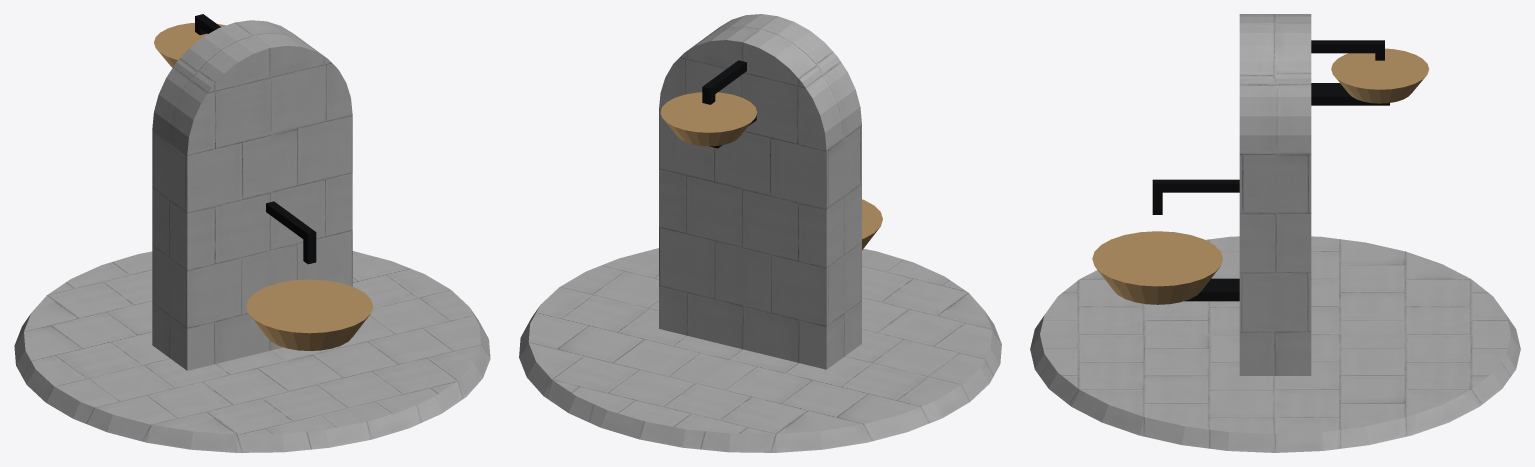
File: 05 Dog Water Station.obj
3 views of the same model, side by side, from view 1: azimuth 30°, elevation 25°; view 2: azimuth 150°, elevation 25°; view 3: azimuth 270°, elevation 25° (orthographic). The views are drawn at different scales.
Parts seen in each view (by area): view 1: SiteA_DogWaterStation_drain_pad, SiteA_DogWaterStation_arch_pillar, SiteA_DogWaterStation_dog_bowl, SiteA_DogWaterStation_brackets_and_spouts, SiteA_DogWaterStation_human_basin; view 2: SiteA_DogWaterStation_drain_pad, SiteA_DogWaterStation_arch_pillar, SiteA_DogWaterStation_human_basin, SiteA_DogWaterStation_brackets_and_spouts, SiteA_DogWaterStation_dog_bowl; view 3: SiteA_DogWaterStation_drain_pad, SiteA_DogWaterStation_arch_pillar, SiteA_DogWaterStation_dog_bowl, SiteA_DogWaterStation_brackets_and_spouts, SiteA_DogWaterStation_human_basin.
Boxes of the visible parts, x1=… form: SiteA_DogWaterStation_drain_pad: x1=14, y1=251, x2=490, y2=452; SiteA_DogWaterStation_arch_pillar: x1=152, y1=20, x2=352, y2=370; SiteA_DogWaterStation_dog_bowl: x1=246, y1=279, x2=373, y2=350; SiteA_DogWaterStation_brackets_and_spouts: x1=195, y1=14, x2=316, y2=264; SiteA_DogWaterStation_human_basin: x1=154, y1=23, x2=225, y2=67; SiteA_DogWaterStation_drain_pad: x1=519, y1=248, x2=1001, y2=452; SiteA_DogWaterStation_arch_pillar: x1=659, y1=14, x2=861, y2=369; SiteA_DogWaterStation_human_basin: x1=660, y1=92, x2=757, y2=146; SiteA_DogWaterStation_brackets_and_spouts: x1=702, y1=60, x2=756, y2=148; SiteA_DogWaterStation_dog_bowl: x1=862, y1=199, x2=882, y2=250; SiteA_DogWaterStation_drain_pad: x1=1030, y1=236, x2=1520, y2=452; SiteA_DogWaterStation_arch_pillar: x1=1239, y1=14, x2=1311, y2=375; SiteA_DogWaterStation_dog_bowl: x1=1092, y1=231, x2=1222, y2=304; SiteA_DogWaterStation_brackets_and_spouts: x1=1152, y1=40, x2=1389, y2=301; SiteA_DogWaterStation_human_basin: x1=1331, y1=48, x2=1428, y2=103.
Size of the model in its own units: 1.5 by 1.1 by 1.5.
4 materials, 2 textured.
